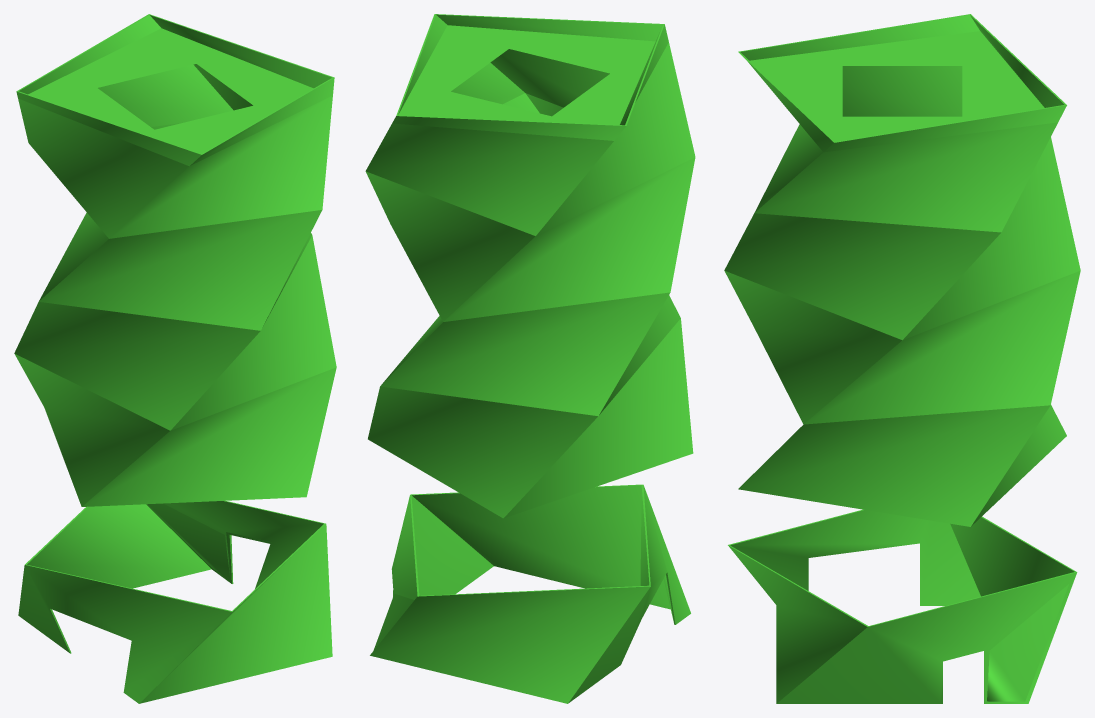
File: twisting_walls.glb
3 renders of one model, left to right at view 1: azimuth 30°, elevation 25°; view 2: azimuth 150°, elevation 25°; view 3: azimuth 270°, elevation 25°, orthographic. The views are drawn at different scales.
Parts seen in each view (by area): view 1: Plane.002, Plane.001; view 2: Plane.002, Plane.001; view 3: Plane.002, Plane.001.
Boxes of the visible parts, bbox=[...] form: Plane.002: bbox=[14, 14, 336, 506]; Plane.001: bbox=[18, 500, 332, 703]; Plane.002: bbox=[365, 14, 695, 518]; Plane.001: bbox=[370, 484, 690, 703]; Plane.002: bbox=[724, 14, 1080, 526]; Plane.001: bbox=[728, 509, 1077, 703].
Size of what is drawn, in the model's own units: 21.75 by 41.89 by 23.49.
